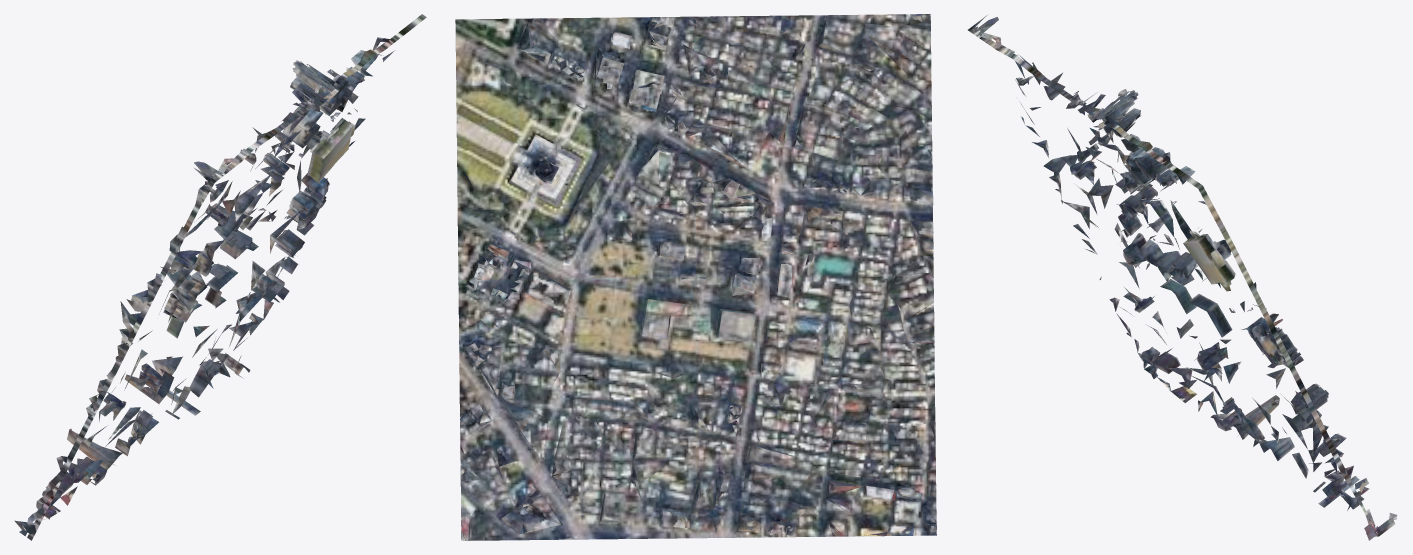
The picture shows the model from 3 angles, left to right: view 1: azimuth 30°, elevation 25°; view 2: azimuth 150°, elevation 25°; view 3: azimuth 270°, elevation 25°; orthographic projection. The views are drawn at different scales.
Size of the model in its own units: 1243 by 1158 by 1084.
1 material, 1 textured.
